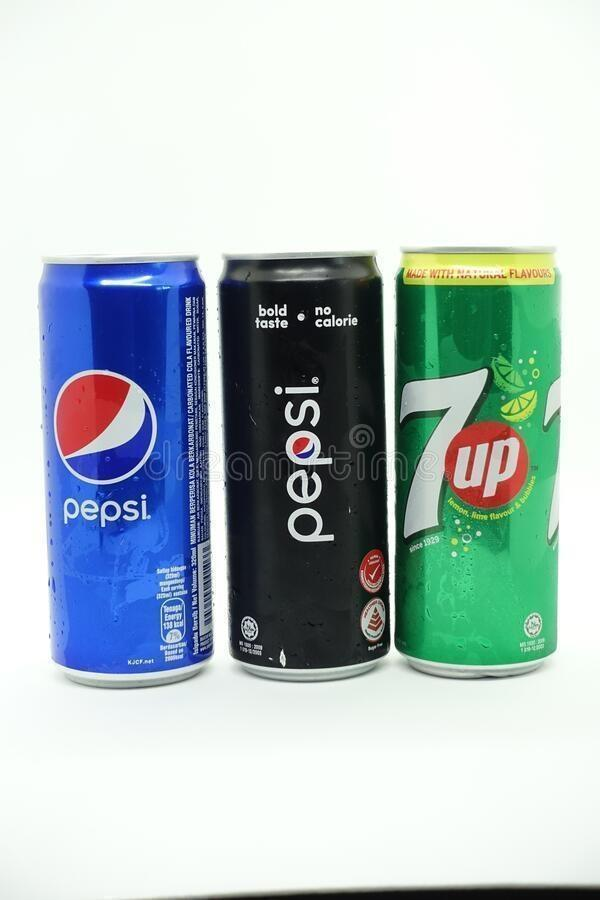tin can: (209, 245, 394, 683), (34, 247, 215, 689), (390, 239, 568, 679)
